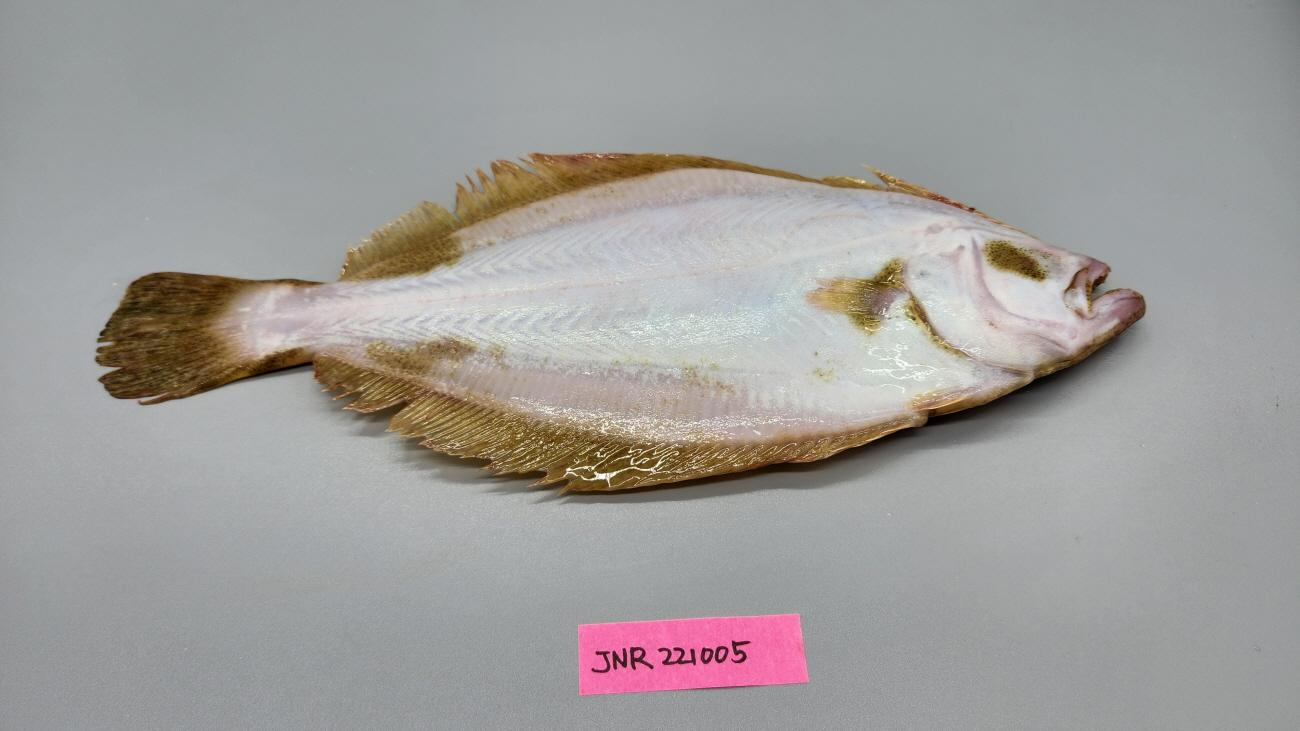POOUN: (92, 148, 1148, 501)
